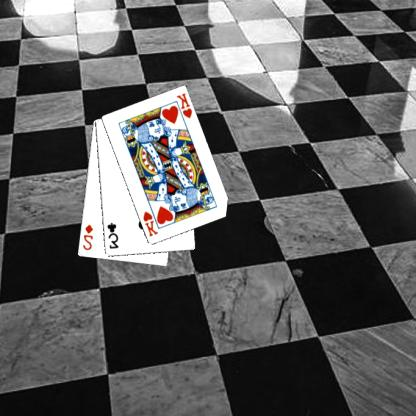2D: (82, 222, 96, 251)
3C: (107, 220, 122, 250)
KH: (142, 208, 161, 238), (176, 91, 195, 119)
